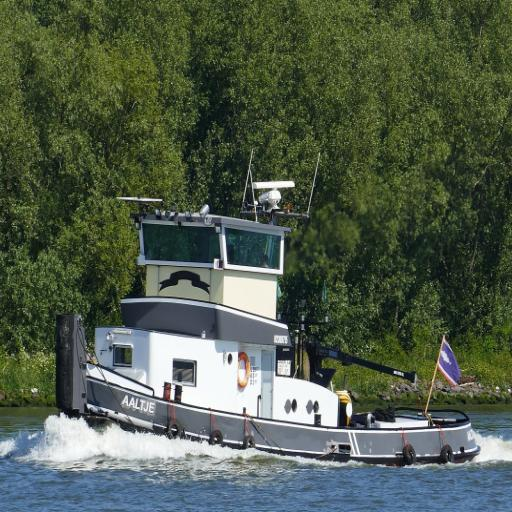tugboat: (50, 146, 484, 476)
